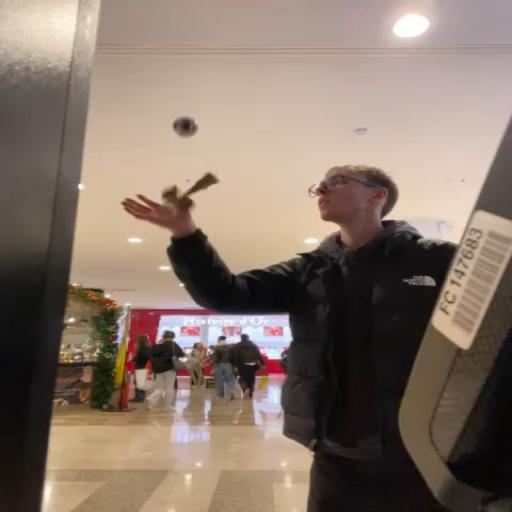kendama_ball: (173, 116, 198, 138)
